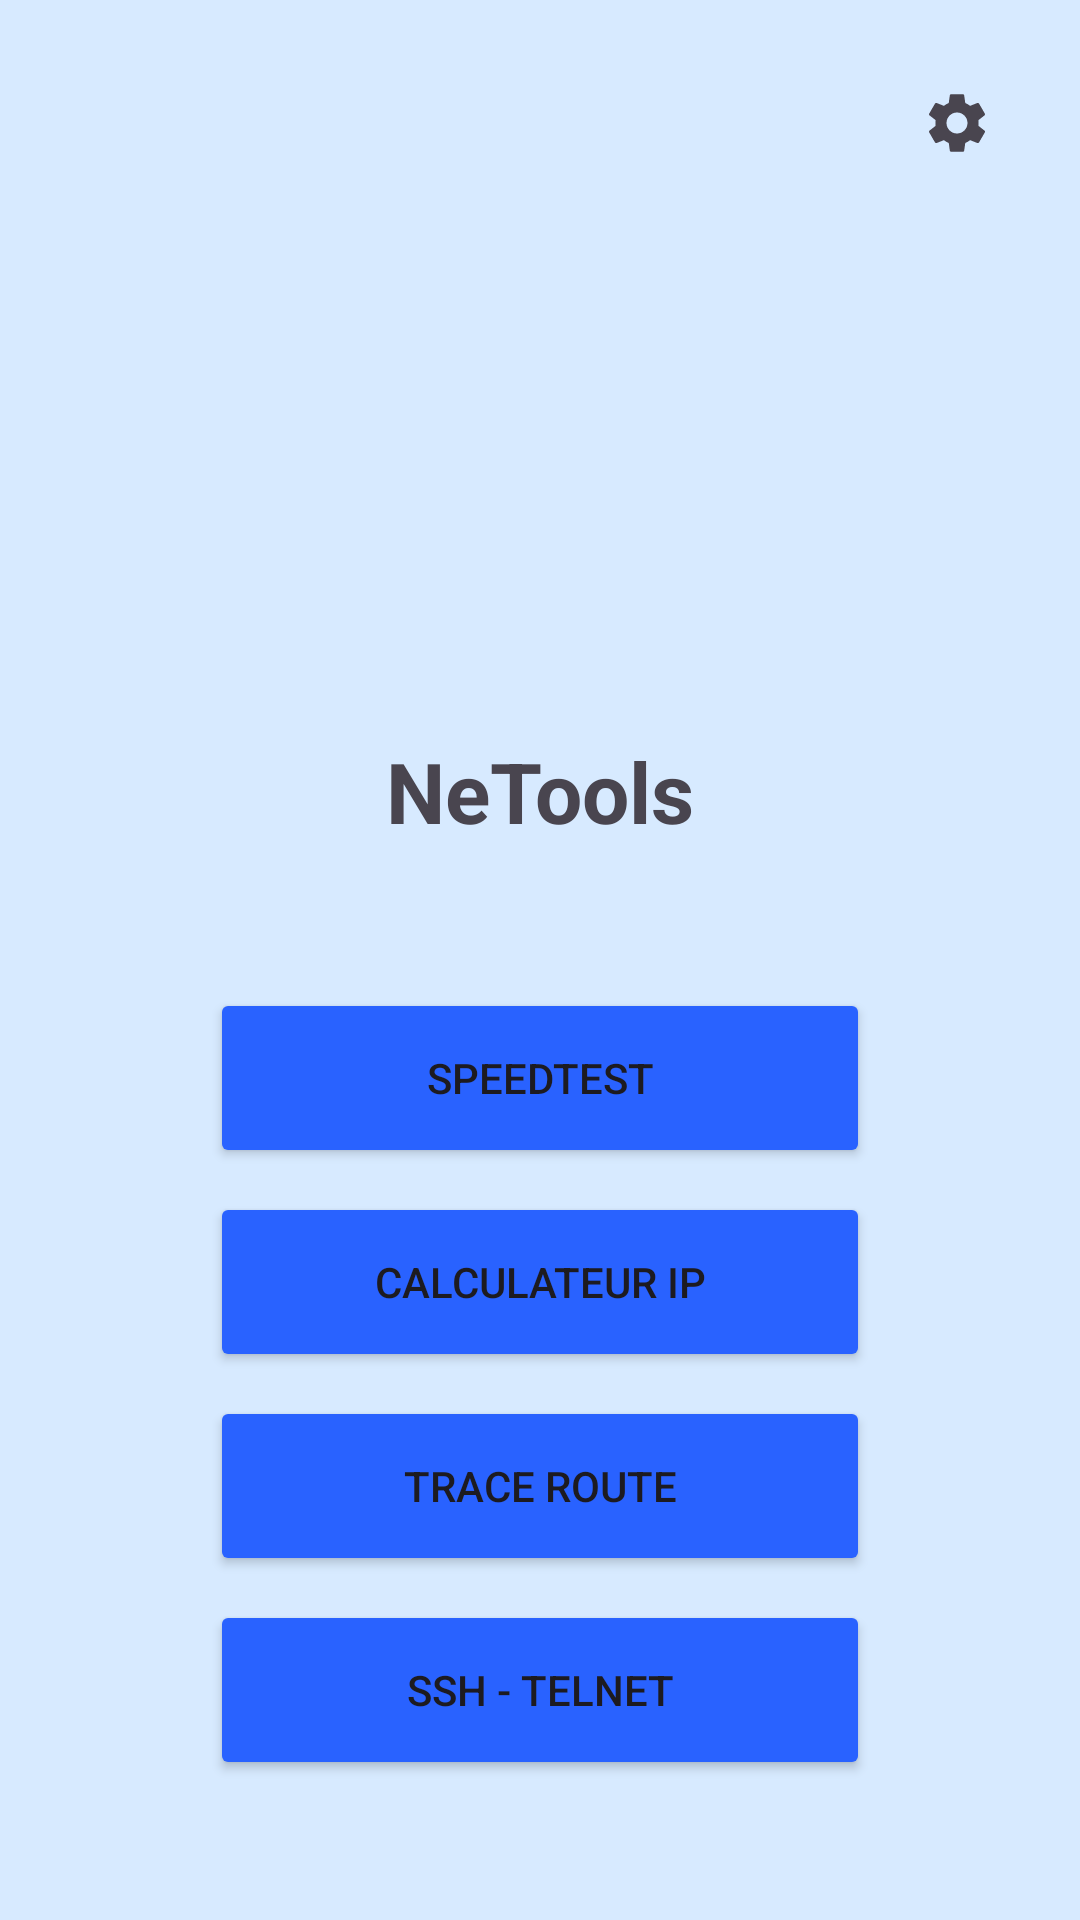

Where to tap for icons on this 1080px×1920px app screen, as (x,y):
Paramètres: (957,123)
